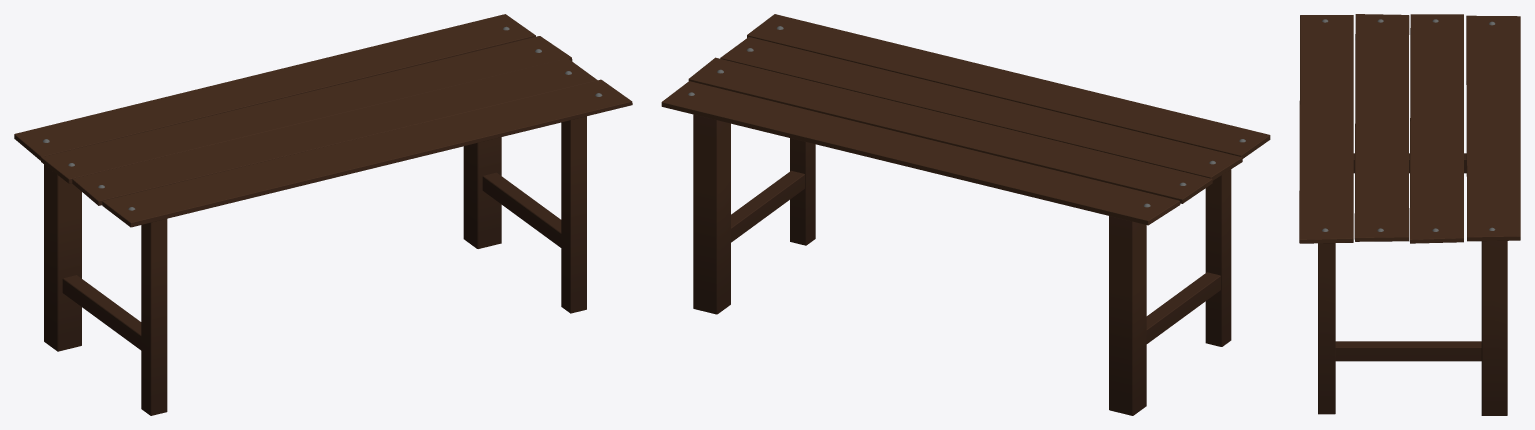
Rendered from Table_1.fbx.
The picture shows the model from 3 angles, left to right: view 1: azimuth 30°, elevation 25°; view 2: azimuth 150°, elevation 25°; view 3: azimuth 270°, elevation 25°; orthographic projection. The views are drawn at different scales.
Visible parts, largest first — view 1: Table_1; view 2: Table_1; view 3: Table_1.
Boxes of the visible parts, left/top/right/bottom form: Table_1: left=14, top=14, right=632, bottom=415; Table_1: left=661, top=14, right=1270, bottom=415; Table_1: left=1299, top=14, right=1520, bottom=415.
Size of the model in its own units: 166 by 66.06 by 68.89.
